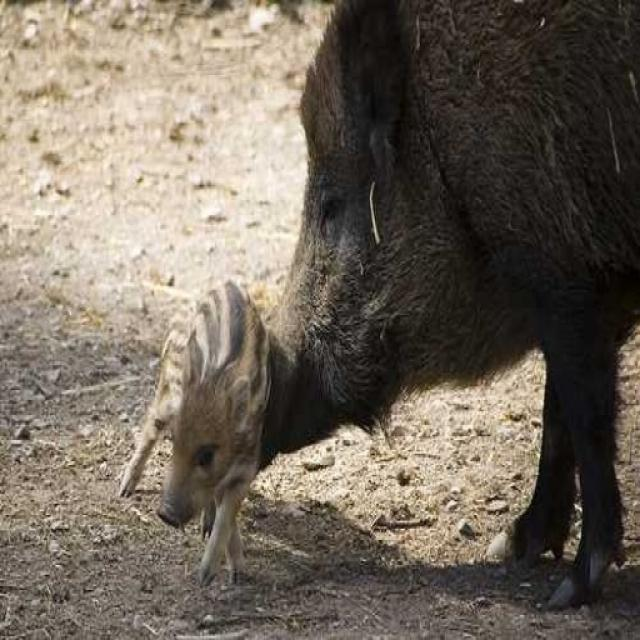pig: (274, 0, 640, 604), (154, 232, 318, 568)
